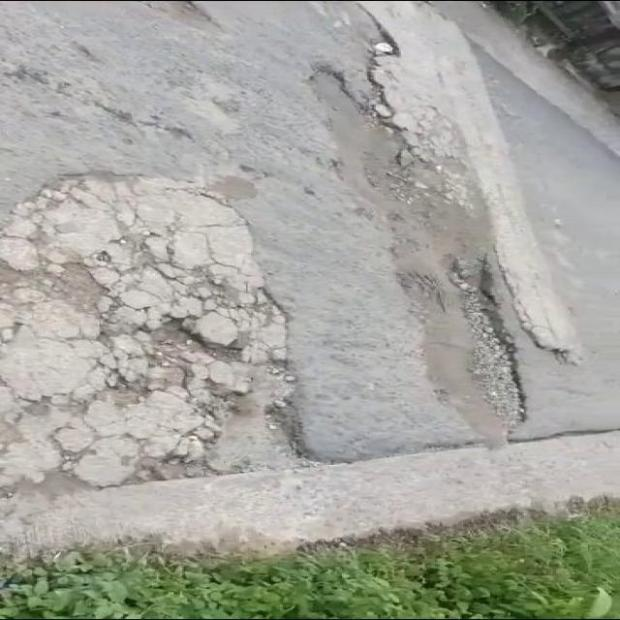lubang: (0, 176, 294, 517), (310, 65, 521, 446), (312, 3, 399, 121), (141, 2, 230, 45)
